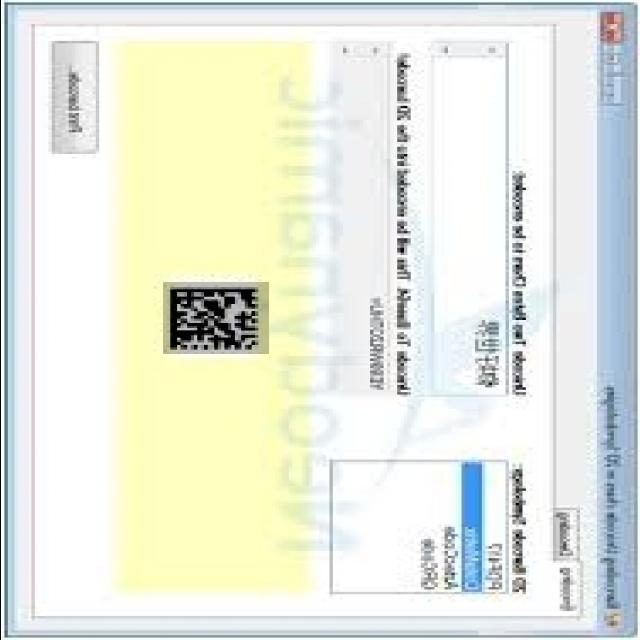Data-Matrix: (162, 282, 268, 354)
